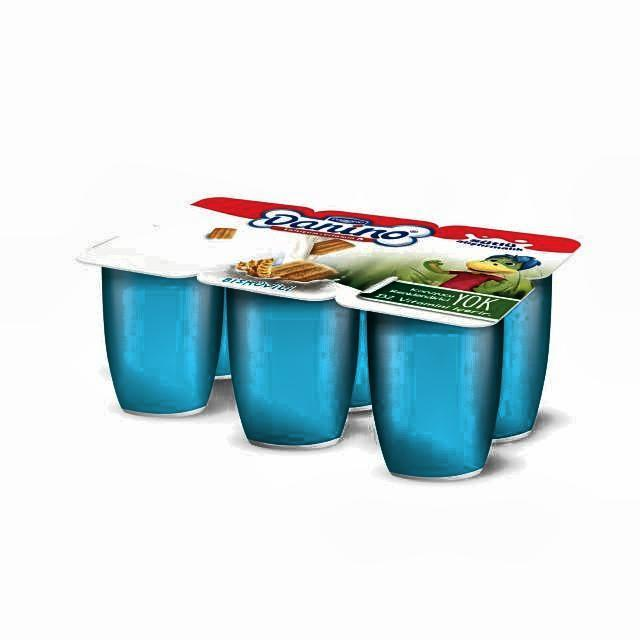plastic: (76, 198, 582, 480)
